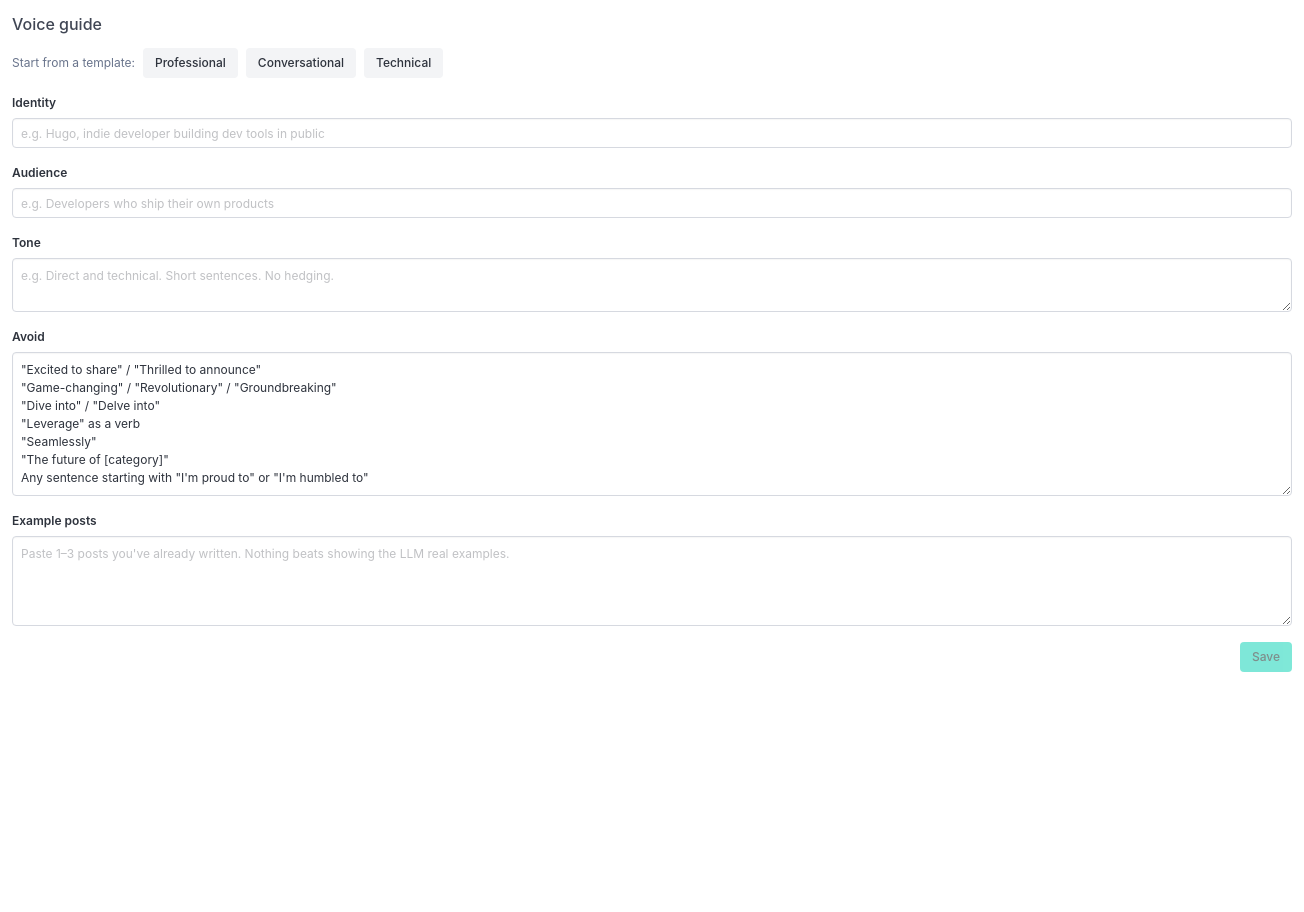
Scenario: VoiceGuideBlock — templates › clicking Professional fills the Audience field
Click the button "Professional".
click(190, 63)  # box [143,48,238,78]
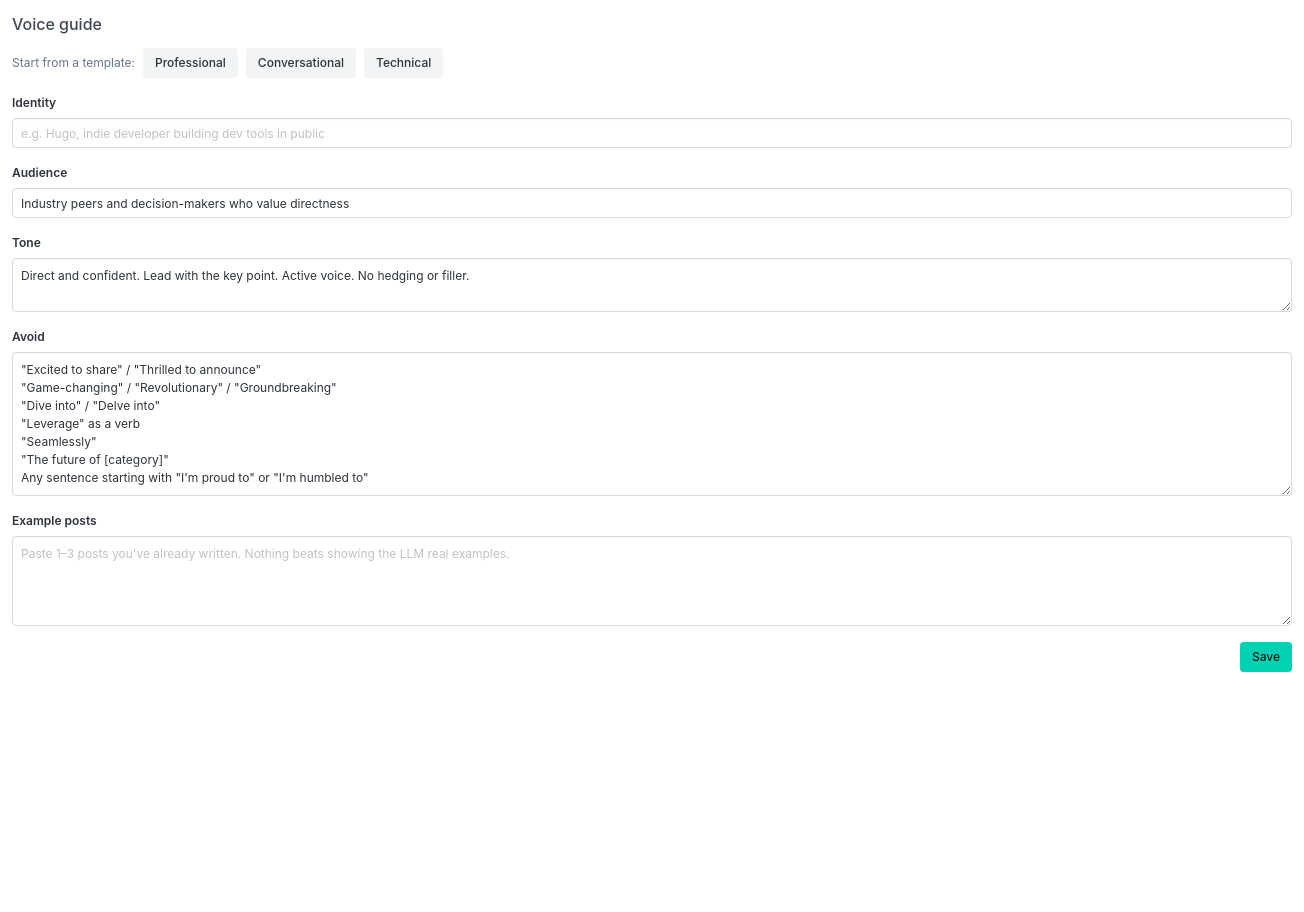
Result: the field labelled "Audience" is not empty at [12,188,1292,218]
